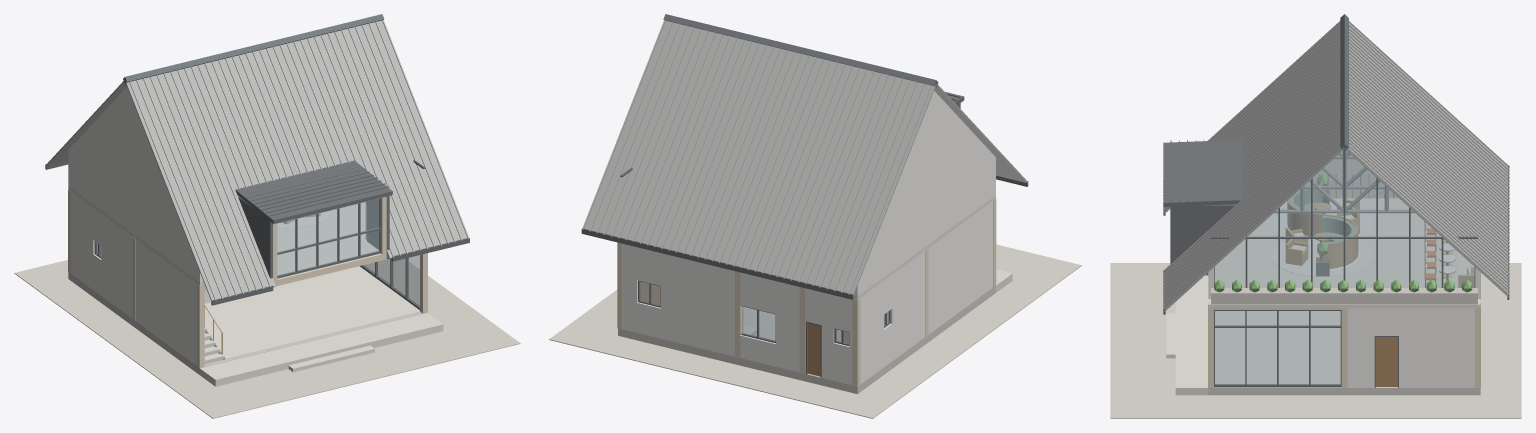
The model's file is restaurant.glb.
3 views of the same model, side by side, from view 1: azimuth 30°, elevation 25°; view 2: azimuth 150°, elevation 25°; view 3: azimuth 270°, elevation 25° (orthographic). The views are drawn at different scales.
Visible parts, largest first — view 1: Roof sheeting (×4), Paving, Roof, Ground floor, West gable wall, Restaurant floor (polished stone), First floor, Verandah, Dormer roof, First floor slab (×2), Dormer cheek (×2), Plinth (+3 smaller); view 2: Roof sheeting (×2), Ground floor, Roof, Paving, West gable wall, Plinth, R.C column (×4), Fascia, Kitchen floor (ceramic tiles); view 3: Roof, Roof sheeting (×4), Paving, Ground floor, East gable glazing, First floor slab (×3), Restaurant floor (polished stone), Dormer roof, Planter, Verandah, First floor, Plinth (+9 smaller).
Boxes of the visible parts, x1,y1,x2,y2 form: Roof sheeting (×4): [45, 20, 468, 301]; Paving: [14, 259, 520, 418]; Roof: [123, 14, 469, 300]; Ground floor: [71, 192, 419, 365]; West gable wall: [68, 87, 202, 281]; Restaurant floor (polished stone): [205, 266, 419, 364]; First floor: [68, 151, 380, 281]; Verandah: [200, 313, 443, 386]; Dormer roof: [235, 160, 392, 223]; First floor slab (×2): [157, 202, 378, 285]; Dormer cheek (×2): [238, 196, 389, 278]; Plinth: [68, 266, 427, 374]; Roof sheeting (×2): [582, 21, 1028, 295]; Ground floor: [623, 201, 992, 385]; Roof: [582, 14, 960, 294]; Paving: [549, 244, 1081, 418]; West gable wall: [854, 91, 995, 295]; Plinth: [618, 286, 995, 393]; R.C column (×4): [617, 242, 860, 386]; Fascia: [581, 228, 853, 299]; Kitchen floor (ceramic tiles): [743, 307, 775, 332]; Roof: [1163, 14, 1509, 309]; Roof sheeting (×4): [1163, 23, 1508, 311]; Paving: [1110, 263, 1521, 418]; Ground floor: [1214, 190, 1474, 387]; East gable glazing: [1214, 150, 1474, 287]; First floor slab (×3): [1208, 198, 1480, 308]; Restaurant floor (polished stone): [1215, 311, 1340, 383]; Dormer roof: [1163, 140, 1242, 206]; Planter: [1211, 288, 1477, 304]; Verandah: [1175, 275, 1208, 395]; First floor: [1208, 173, 1480, 298]; Plinth: [1208, 387, 1480, 395].
Size of the model in its own units: 13.5 by 10.63 by 15.1.
